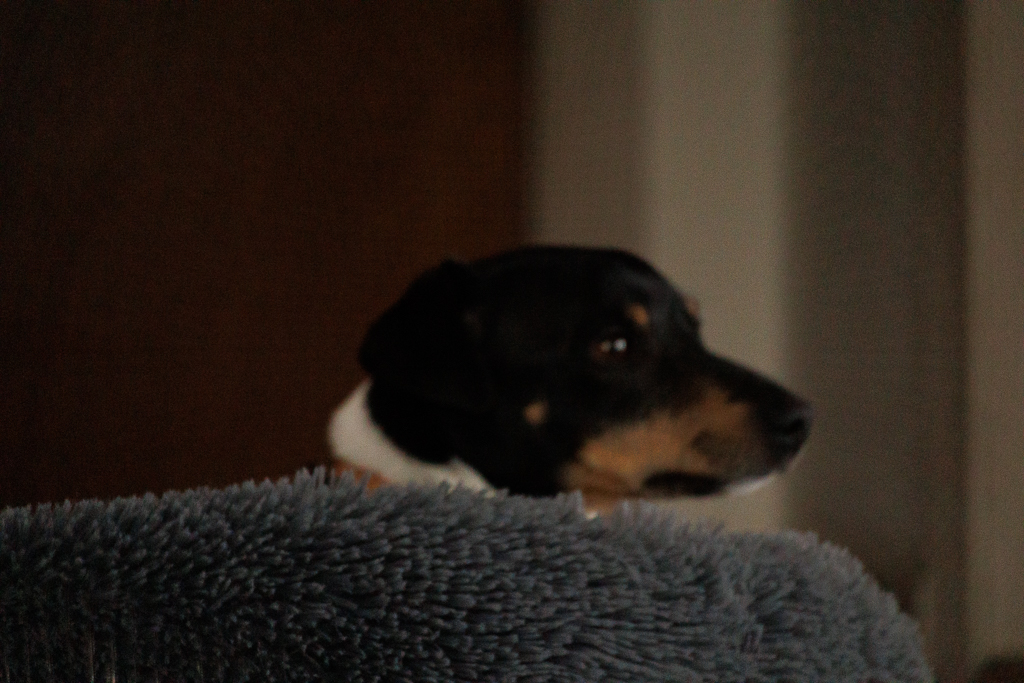Dog: (279, 224, 845, 541)
